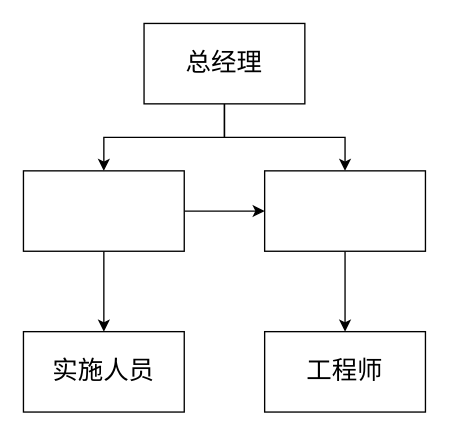
The diagram is 449 pixels wide and 436 high, and some of its shapes have lost their labels. The centre of each missing label's shape, as x and y in pixels:
"技术负责人" belongs at point (344, 210).
"项目经理" belongs at point (103, 210).
